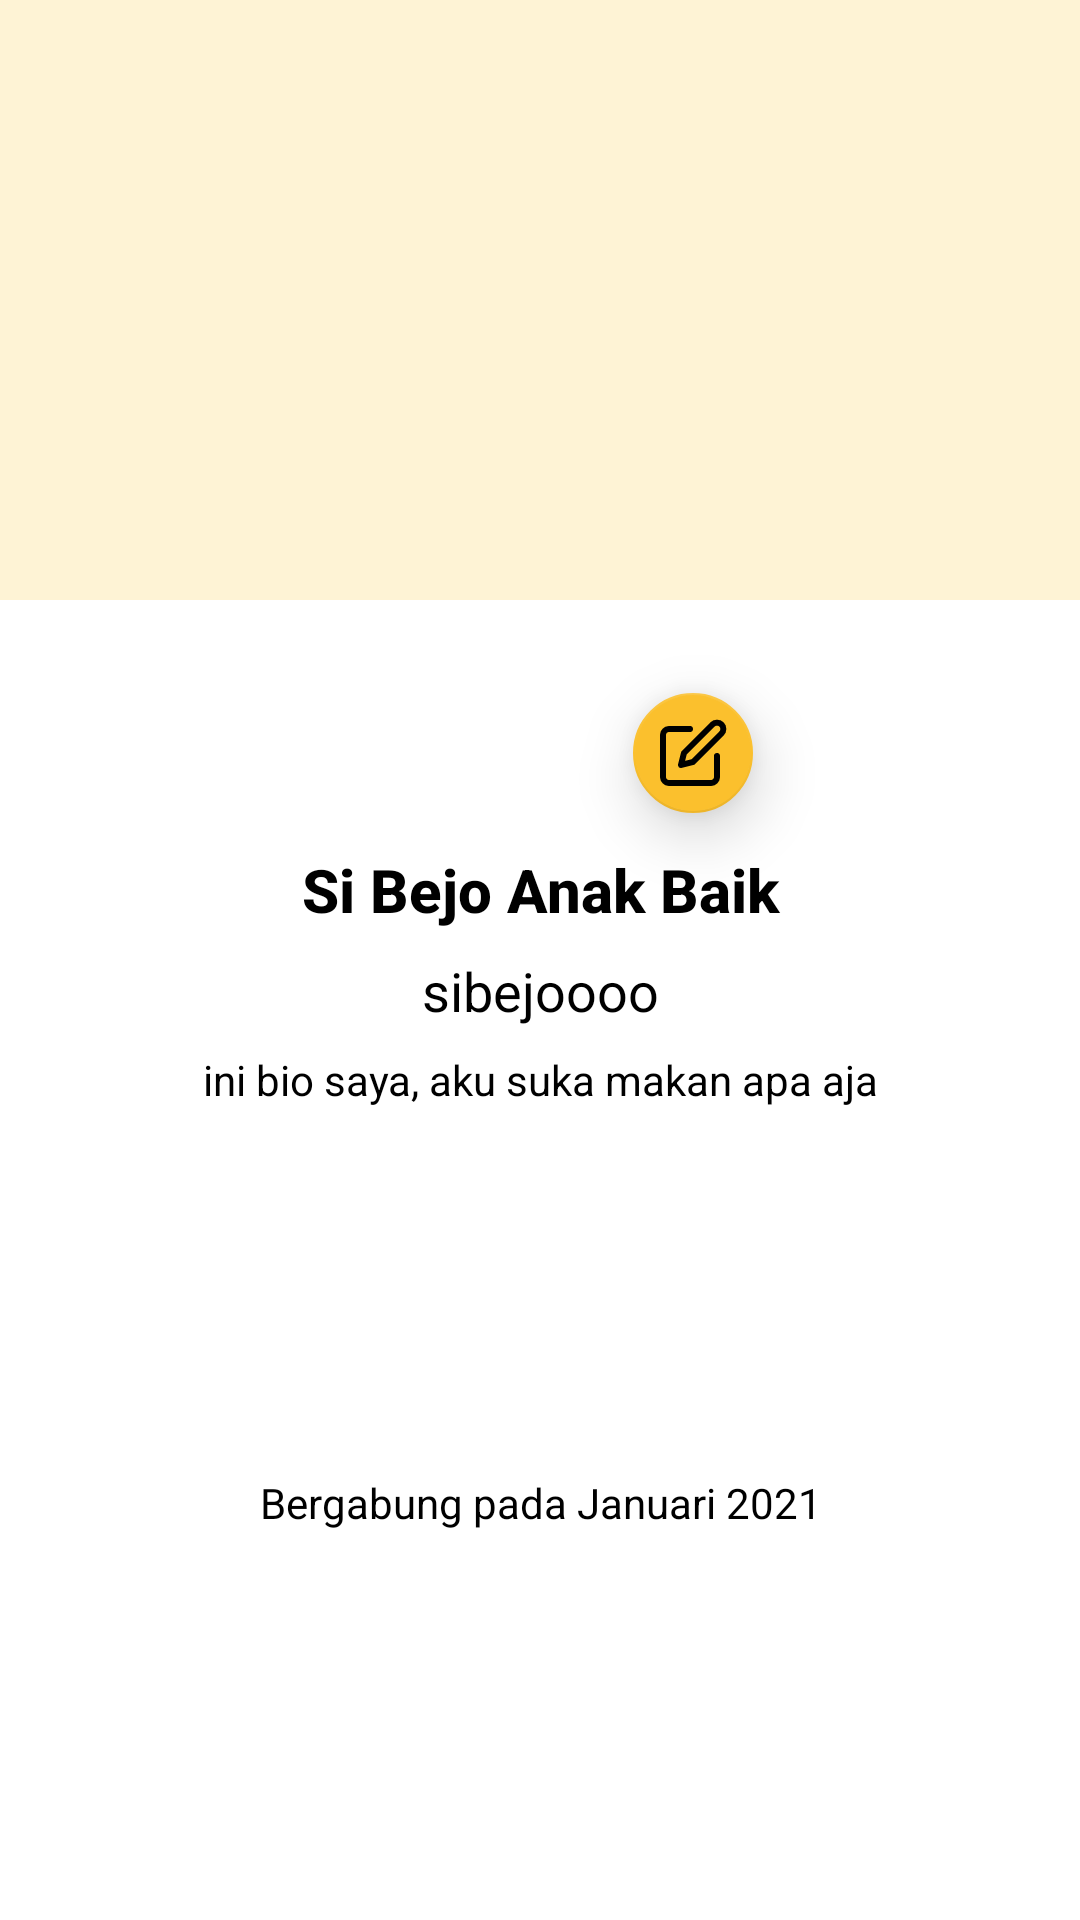

Named icons in this screenshot (1080w x 1920h) and their bounding boxes, {"x1": x1, "y1": y1, "x2": x2, "y2": y2}:
edit: {"x1": 633, "y1": 693, "x2": 753, "y2": 821}
